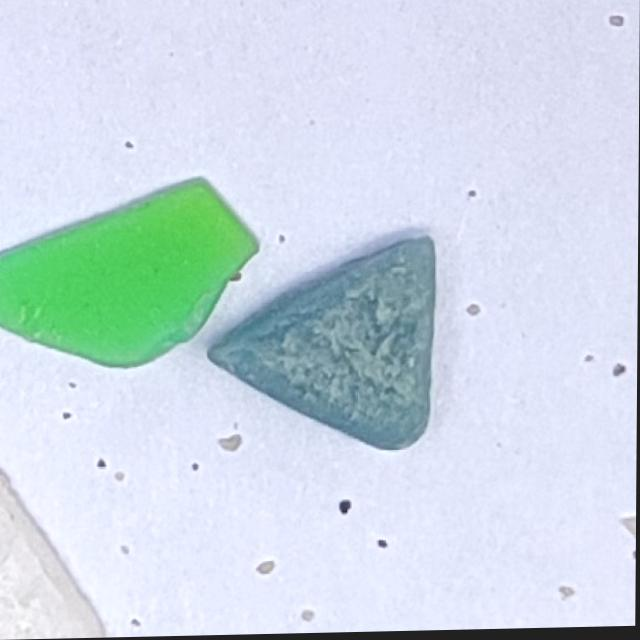microplastic: (197, 226, 506, 505), (0, 161, 285, 403)
